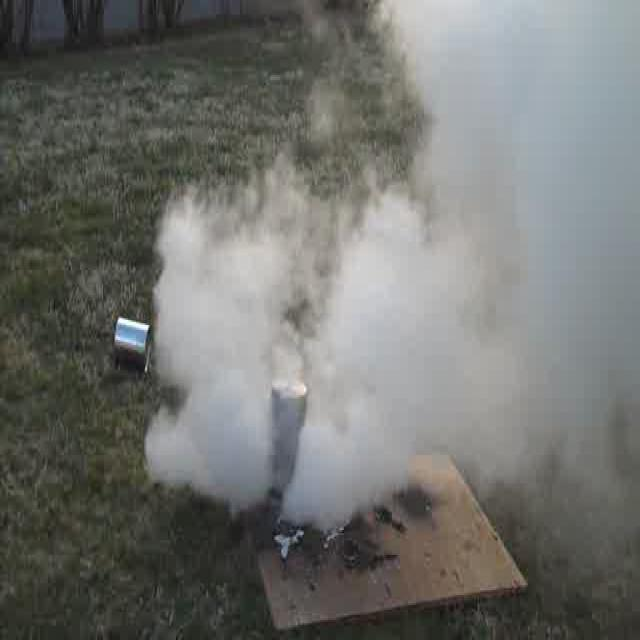Smoke: (184, 20, 640, 537), (152, 172, 634, 496)
